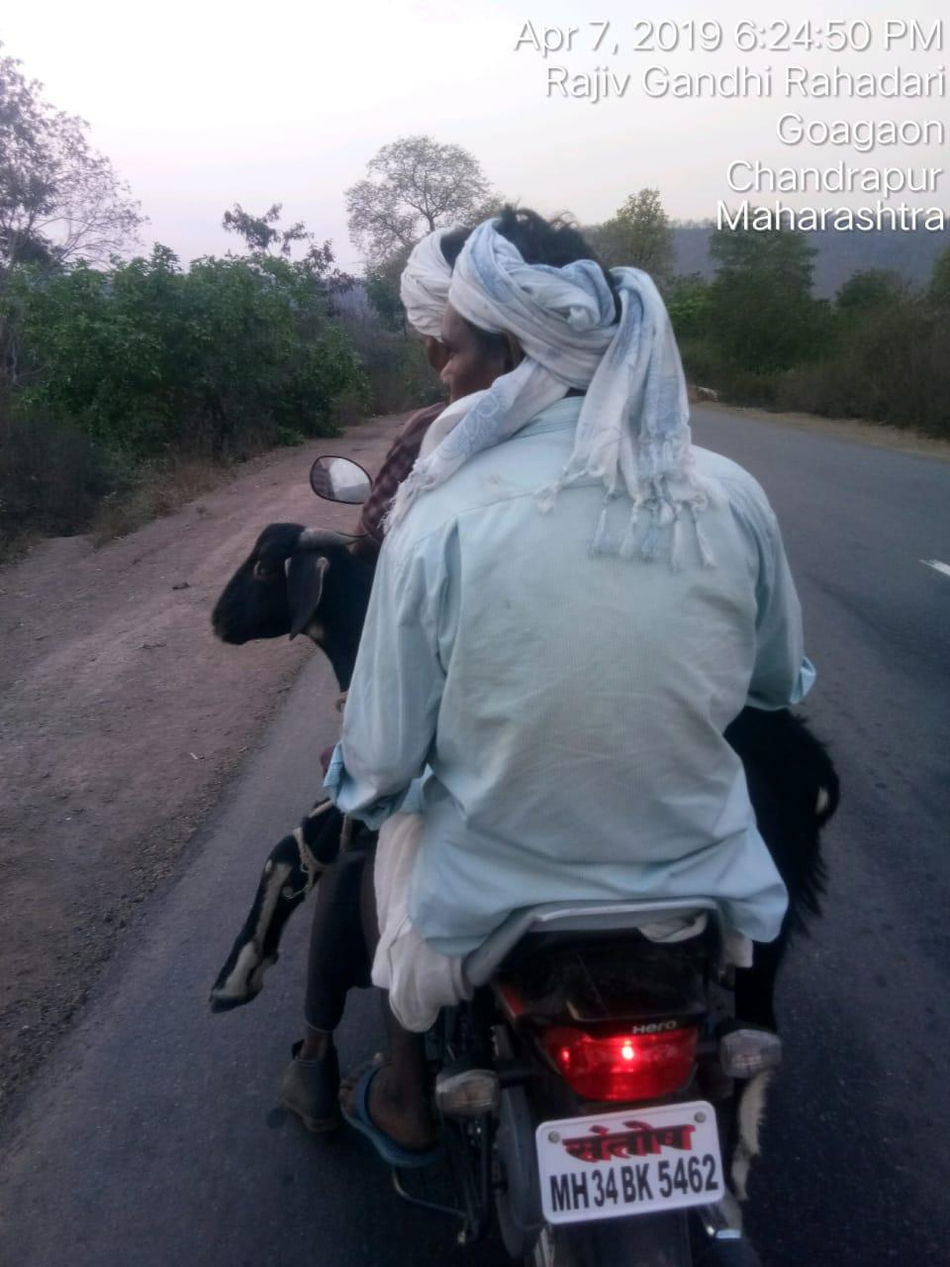plate: (520, 1099, 763, 1231)
